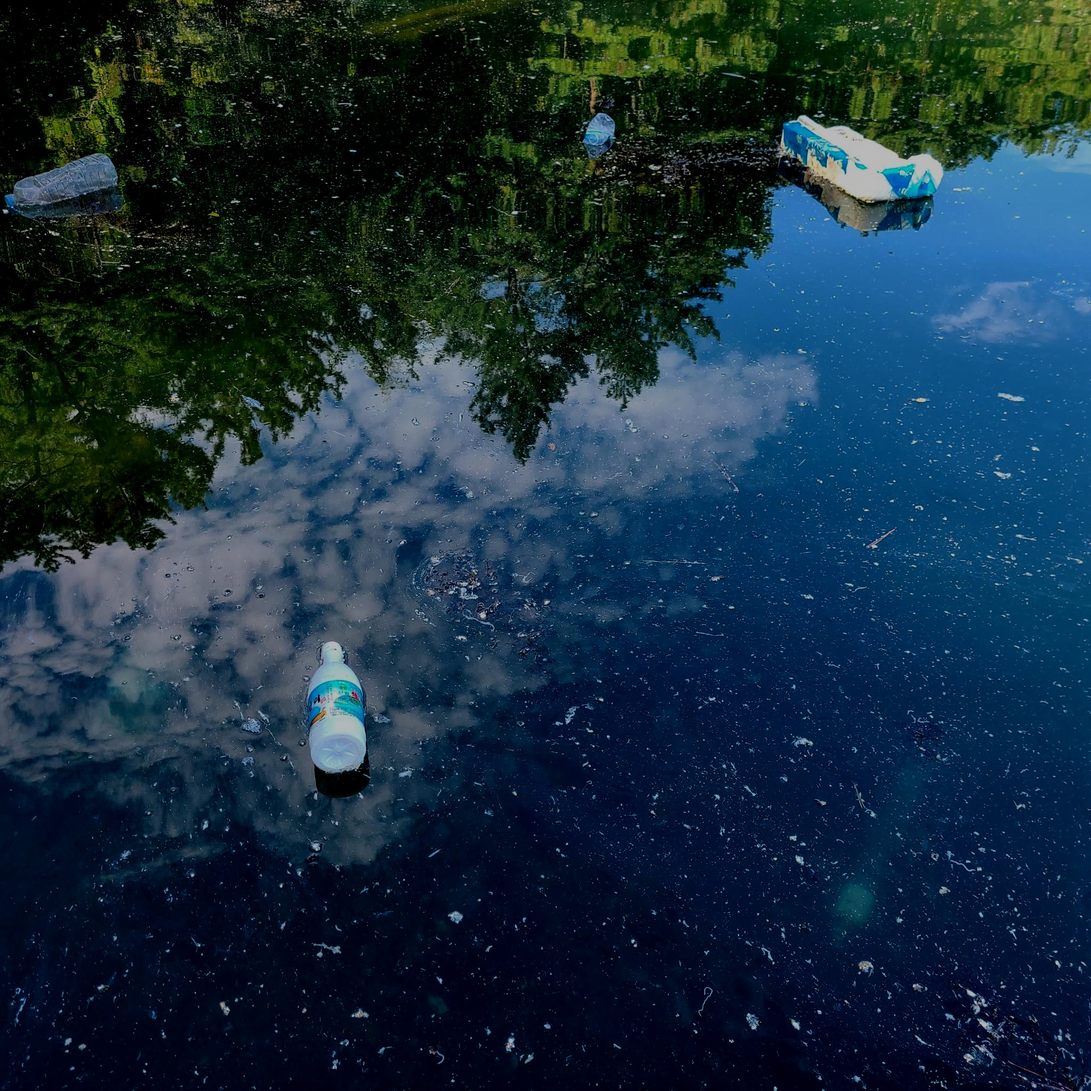sampah_terapung: (780, 116, 944, 204), (308, 642, 367, 772), (5, 154, 118, 208), (583, 113, 616, 146)
